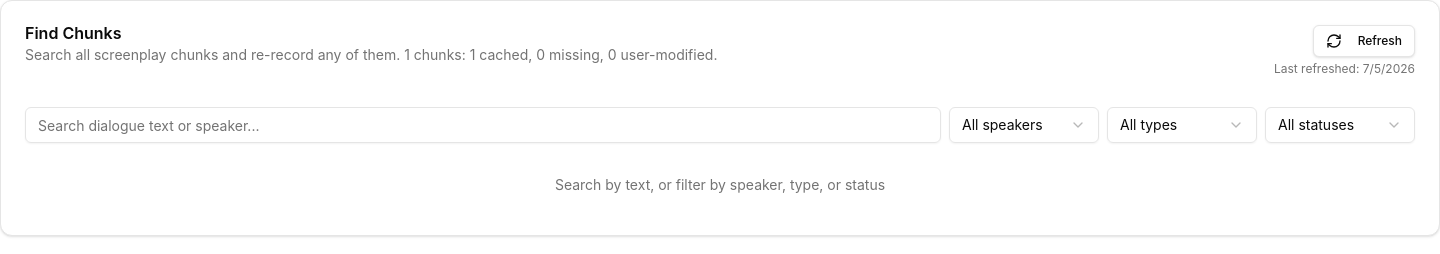
Test: ChunkSearchSection › shows an empty state when nothing matches
This screenshot has width=1440, height=254.
In the field named "Search chunks": [483, 125] box [25,107,941,143], type "zzz-no-match"
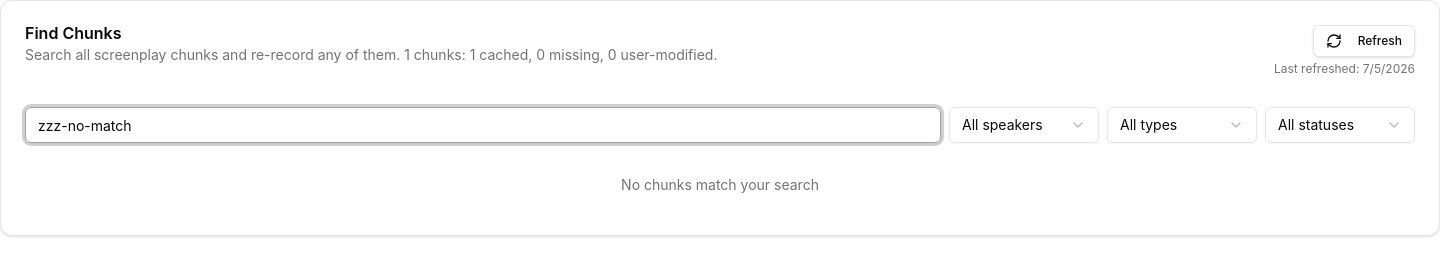
expect the text "No chunks match your search" is shown: met, box [621,176,819,193]
